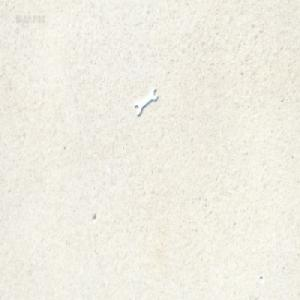Wrench: (133, 87, 158, 117)
